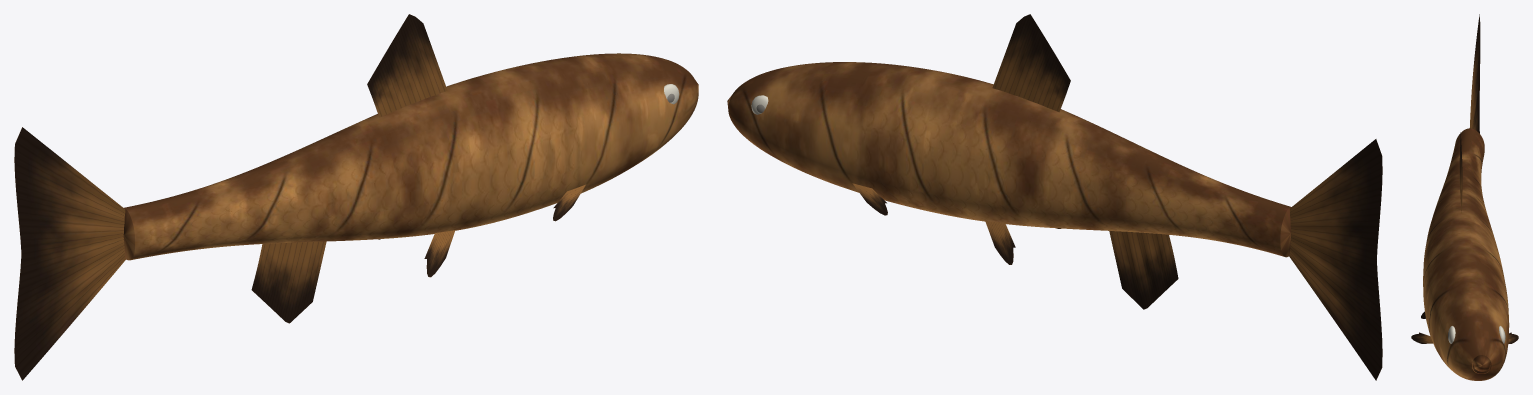
File: fish_chub_cooked.gltf
The picture shows the model from 3 angles, left to right: view 1: azimuth 30°, elevation 25°; view 2: azimuth 150°, elevation 25°; view 3: azimuth 270°, elevation 25°; orthographic projection. The views are drawn at different scales.
Visible parts, largest first — view 1: fish_chub_cooked; view 2: fish_chub_cooked; view 3: fish_chub_cooked.
Part boxes in pixels (x1,y1,x2,y2): fish_chub_cooked: [14, 14, 698, 380]; fish_chub_cooked: [727, 14, 1382, 380]; fish_chub_cooked: [1411, 14, 1518, 380].
Bounding box in the file's own units: 0.4135 × 0.1639 × 0.0728.
6 materials, 4 textured.
